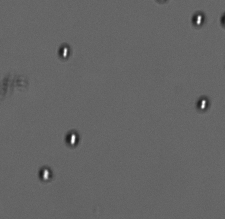Living Cell: (37, 165, 55, 183), (190, 11, 208, 29), (63, 129, 80, 146), (195, 95, 211, 113), (56, 42, 69, 60)
